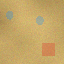person: (35, 16, 43, 25), (6, 10, 13, 19)
vehicle: (42, 43, 55, 56)
